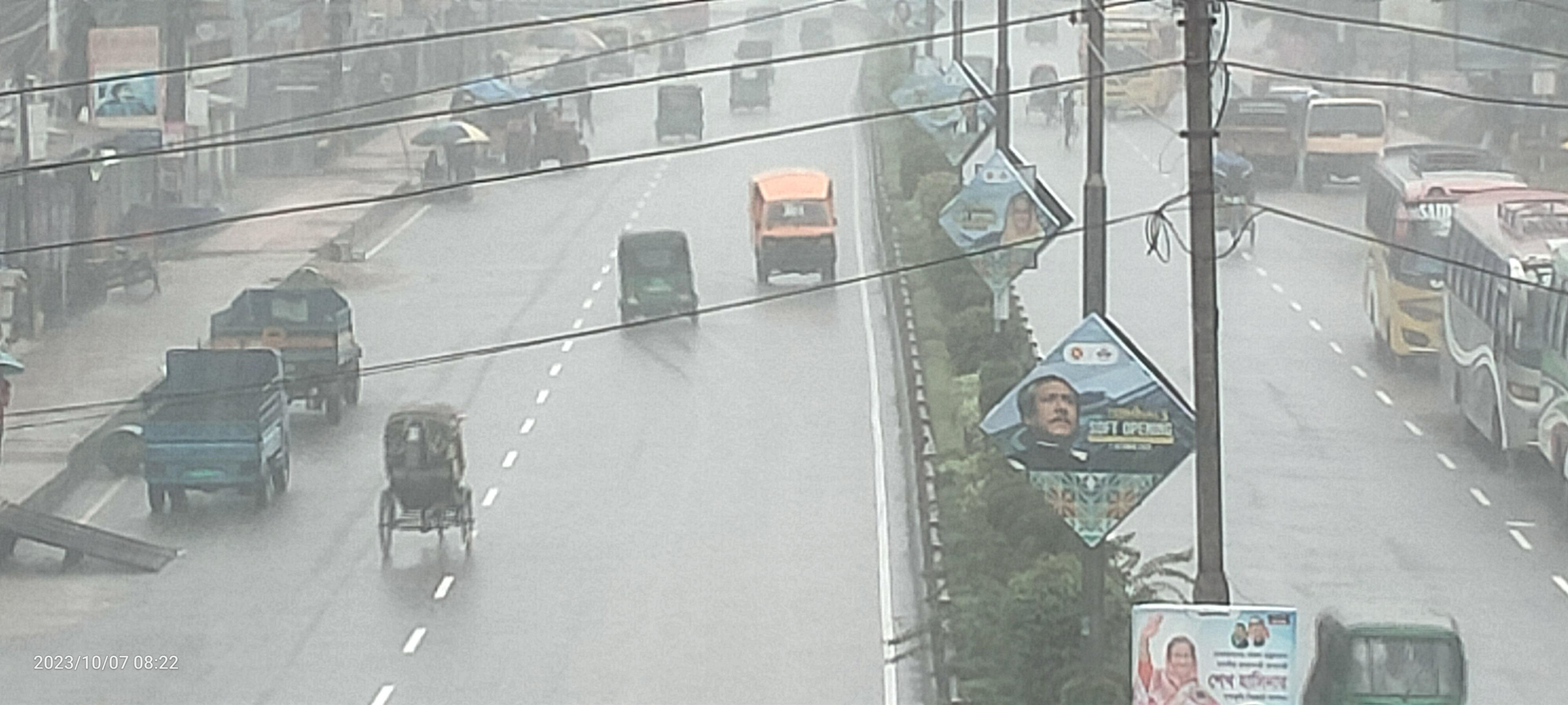Bus: (1331, 122, 1501, 407), (1430, 177, 1568, 483), (1055, 0, 1209, 155), (1040, 0, 1214, 130)
Car: (342, 385, 506, 581), (1007, 55, 1079, 130)
Truck: (97, 316, 306, 531), (174, 262, 378, 426), (1182, 67, 1312, 196), (1292, 80, 1399, 207)
